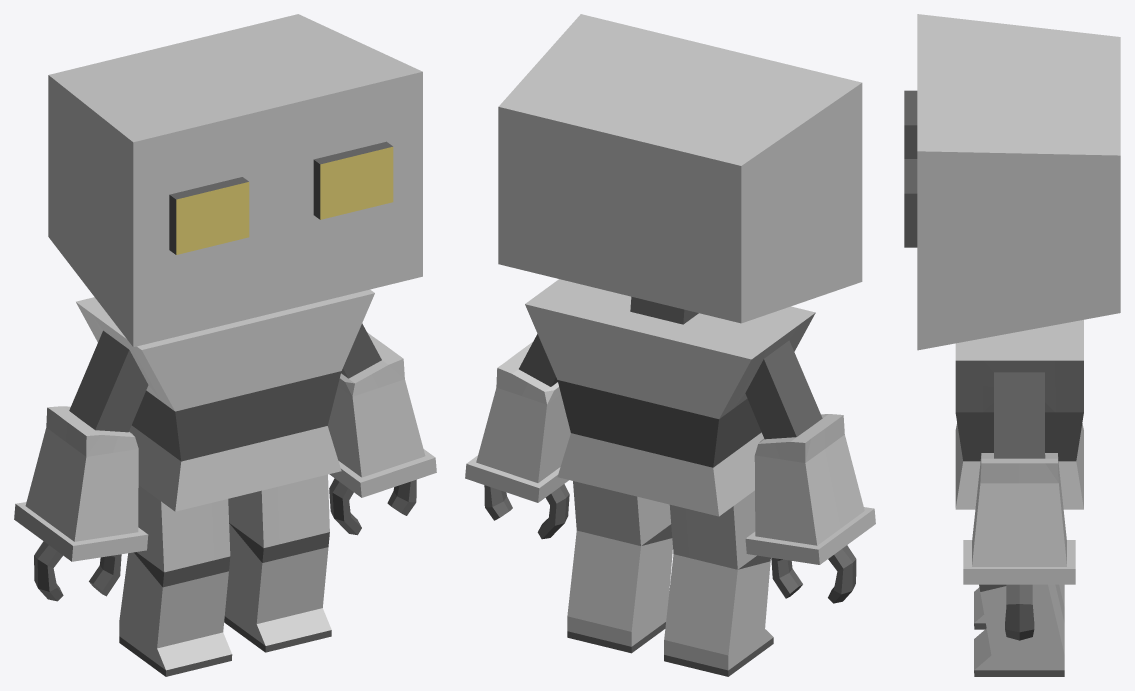
Rendered from robot4.fbx.
3 renders of one model, left to right at view 1: azimuth 30°, elevation 25°; view 2: azimuth 150°, elevation 25°; view 3: azimuth 270°, elevation 25°, orthographic. The views are drawn at different scales.
Visible parts, largest first — view 1: Robot4; view 2: Robot4; view 3: Robot4.
Part boxes in pixels (<box>): Robot4: <box>14,14,436,676</box>; Robot4: <box>465,14,875,676</box>; Robot4: <box>904,14,1120,676</box>.
Bounding box in the file's own units: 112 × 163 × 57.44.
